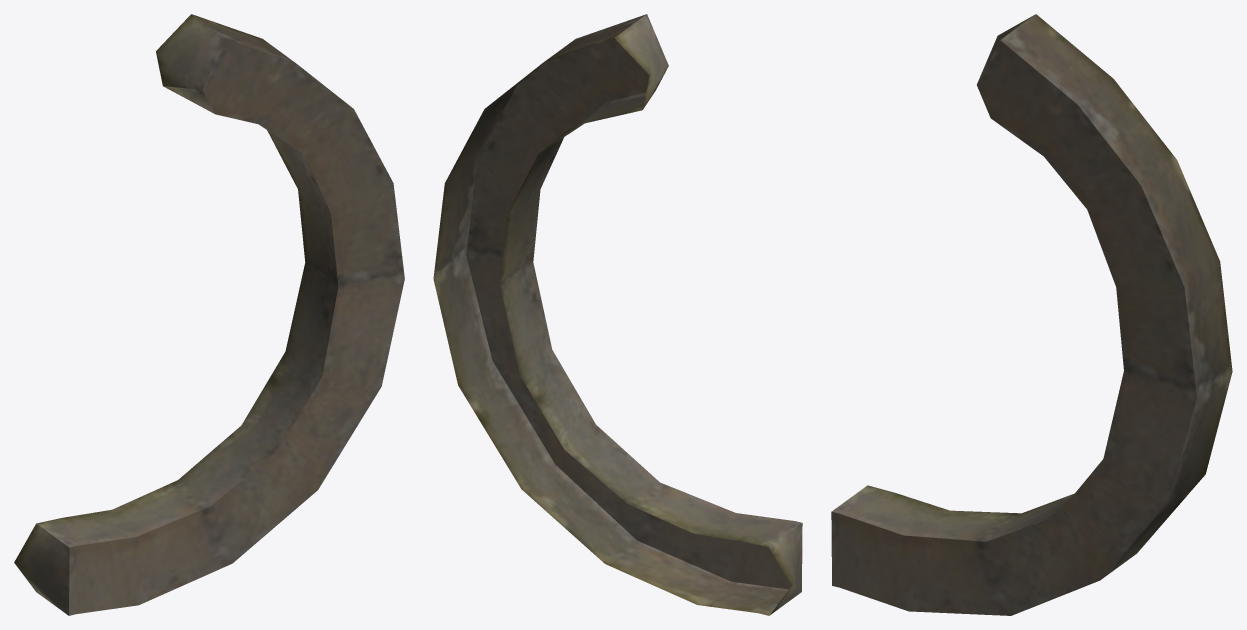
File: border_c_121.glb
The picture shows the model from 3 angles, left to right: view 1: azimuth 30°, elevation 25°; view 2: azimuth 150°, elevation 25°; view 3: azimuth 330°, elevation 25°; orthographic projection. The views are drawn at different scales.
Visible parts, largest first — view 1: set_0_group_0; view 2: set_0_group_0; view 3: set_0_group_0.
Boxes of the visible parts, <box> form: set_0_group_0: <box>14,14,404,615</box>; set_0_group_0: <box>433,14,802,615</box>; set_0_group_0: <box>831,14,1232,615</box>.
Size of the model in its own units: 1.7 by 2.48 by 0.2842.
Materials: 1 (1 with a texture image).
